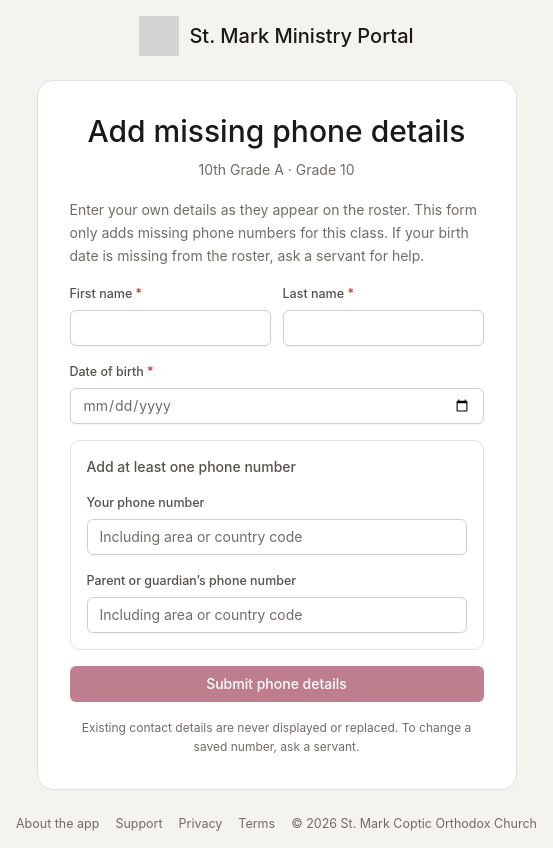
it: class contact form › sends only the entered identity, phones and token, then clears the submitted details
Type "Mina" into the field labelled "First name *".
click(170, 328); type("Mina")  # box x1=70 y1=310 x2=270 y2=346
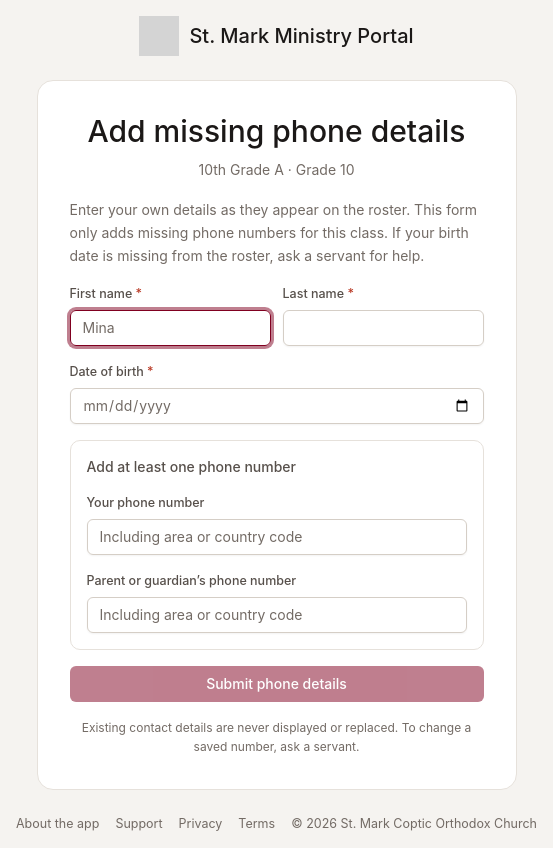
Type "Botros" into the field labelled "Last name *".
click(383, 328); type("Botros")  # box x1=282 y1=310 x2=484 y2=346
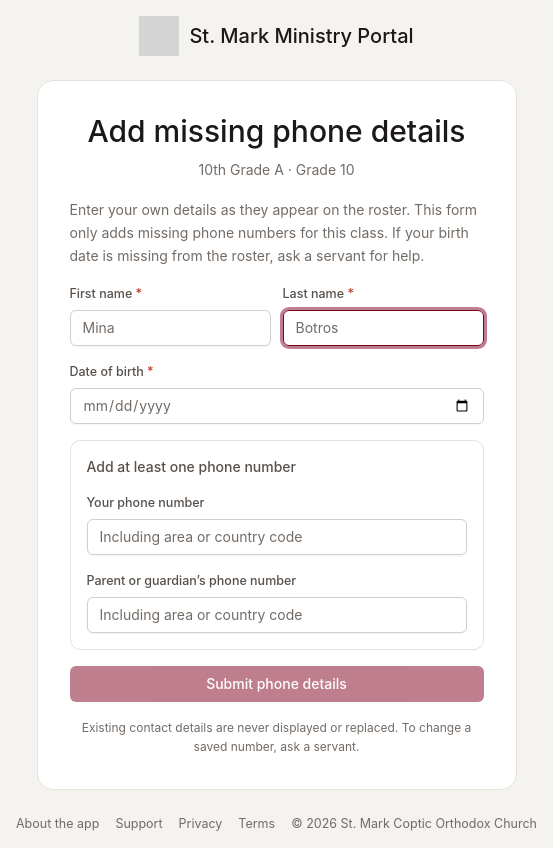
Type "2011-04-12" into the date field labelled "Date of birth *".
click(276, 406); type("2011-04-12")  # box x1=70 y1=388 x2=484 y2=424
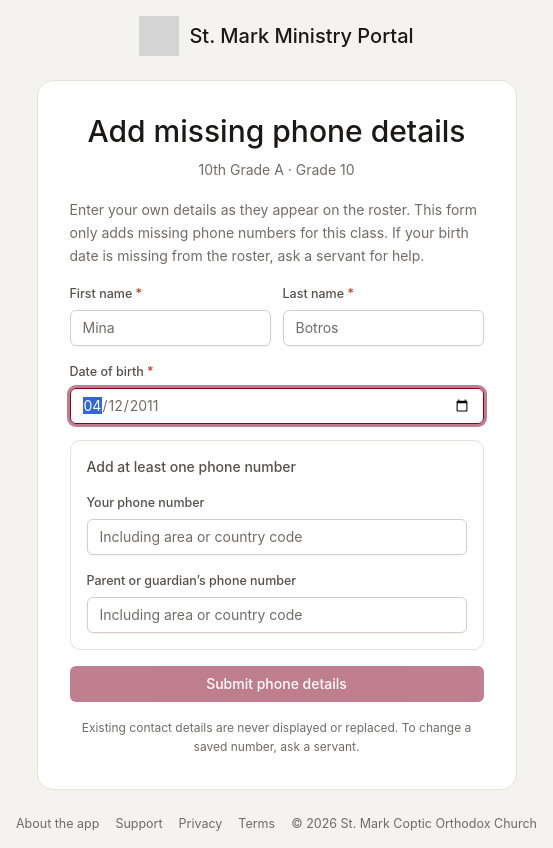
Type "2015550123" into the field labelled "Your phone number".
click(276, 536); type("2015550123")  # box x1=86 y1=518 x2=466 y2=554
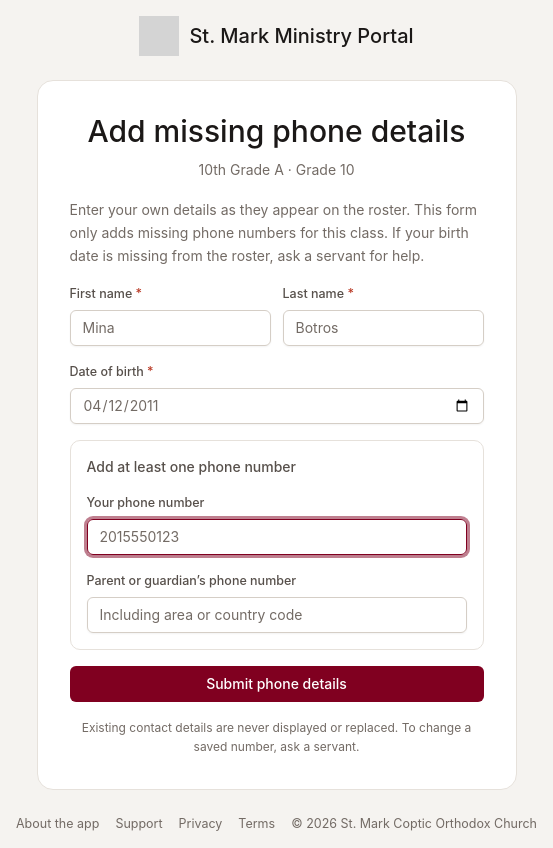
Click the button "Submit phone details".
click(276, 684)  # box x1=70 y1=666 x2=484 y2=702
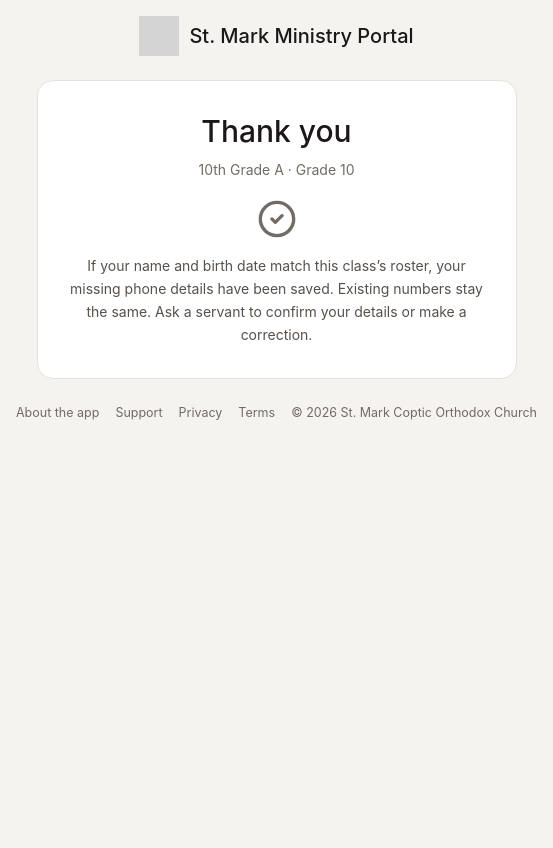
Now the heading "Thank you" is shown, box x1=201 y1=113 x2=352 y2=150
Now the message shows "If your name and birth date match", box x1=70 y1=257 x2=483 y2=343
Now the message shows "Ask a servant", box x1=70 y1=257 x2=483 y2=343
